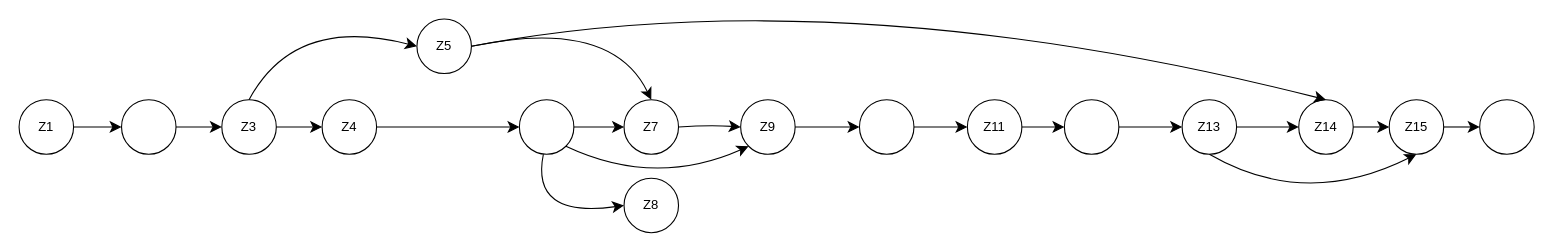
The diagram is 1553 pixels wide and 252 high, and some of its shapes have lost their labels. Each missing label, with the centre of its shape:
"Z10" belongs at pixel 886 126.
"Z12" belongs at pixel 1091 126.
"Z16" belongs at pixel 1506 126.
"Z2" belongs at pixel 148 126.
"Z6" belongs at pixel 546 126.
